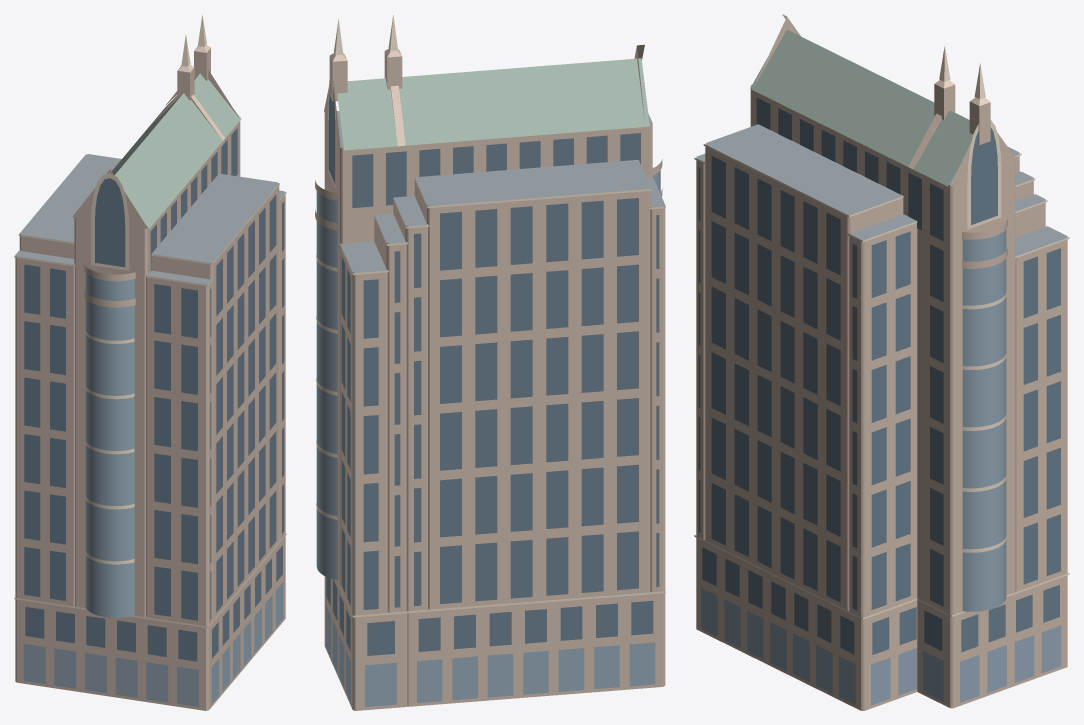
File: detail.glb
3 renders of one model, left to right at view 1: azimuth 30°, elevation 25°; view 2: azimuth 150°, elevation 25°; view 3: azimuth 270°, elevation 25°, orthographic. The views are drawn at different scales.
Visible parts, largest first — view 1: the-carillon; view 2: the-carillon; view 3: the-carillon.
Boxes of the visible parts, x1=… form: the-carillon: x1=14, y1=14, x2=286, y2=710; the-carillon: x1=315, y1=15, x2=665, y2=710; the-carillon: x1=694, y1=14, x2=1069, y2=710.
Size of the model in its own units: 60 by 122 by 65.36.
